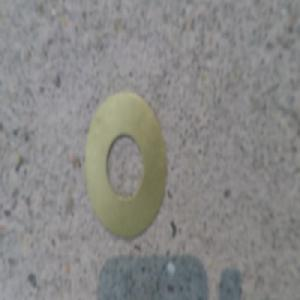Washer: (82, 88, 167, 234)
